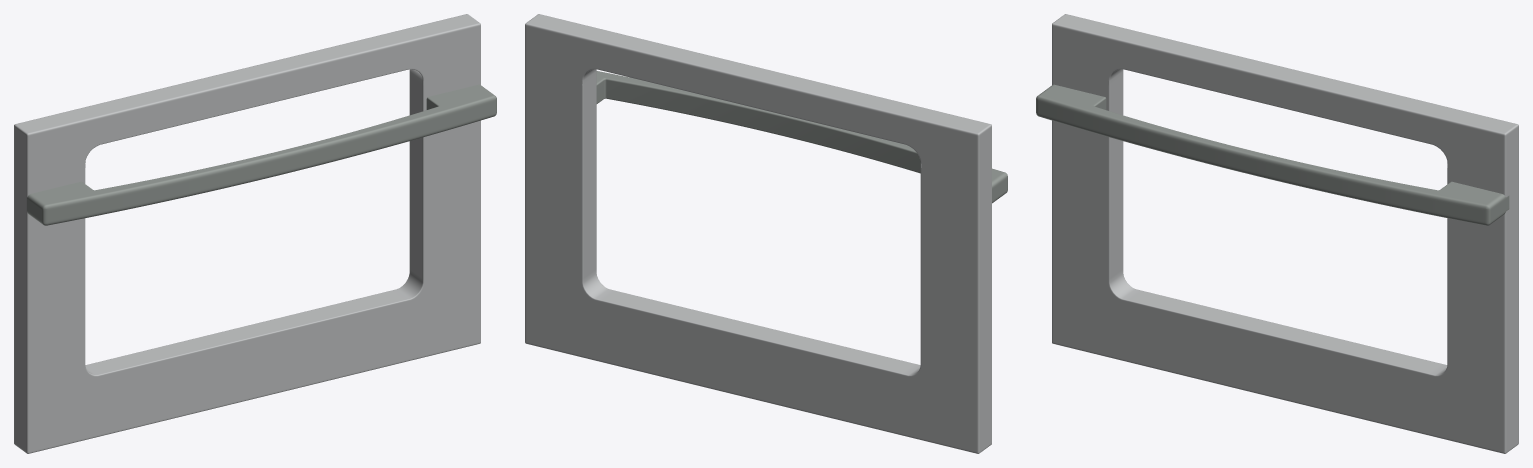
The model's file is puertaEstufa.OBJ.
3 renders of one model, left to right at view 1: azimuth 30°, elevation 25°; view 2: azimuth 150°, elevation 25°; view 3: azimuth 330°, elevation 25°, orthographic.
Visible parts, largest first — view 1: puertaEstufa:polySurface1; view 2: puertaEstufa:polySurface1; view 3: puertaEstufa:polySurface1.
Boxes of the visible parts, bbox=[...] form: puertaEstufa:polySurface1: bbox=[14, 14, 496, 453]; puertaEstufa:polySurface1: bbox=[525, 14, 1007, 453]; puertaEstufa:polySurface1: bbox=[1036, 14, 1518, 453].
Bounding box in the file's own units: 3.03 × 2.04 × 0.4272.
Materials: 2 (2 with a texture image).
